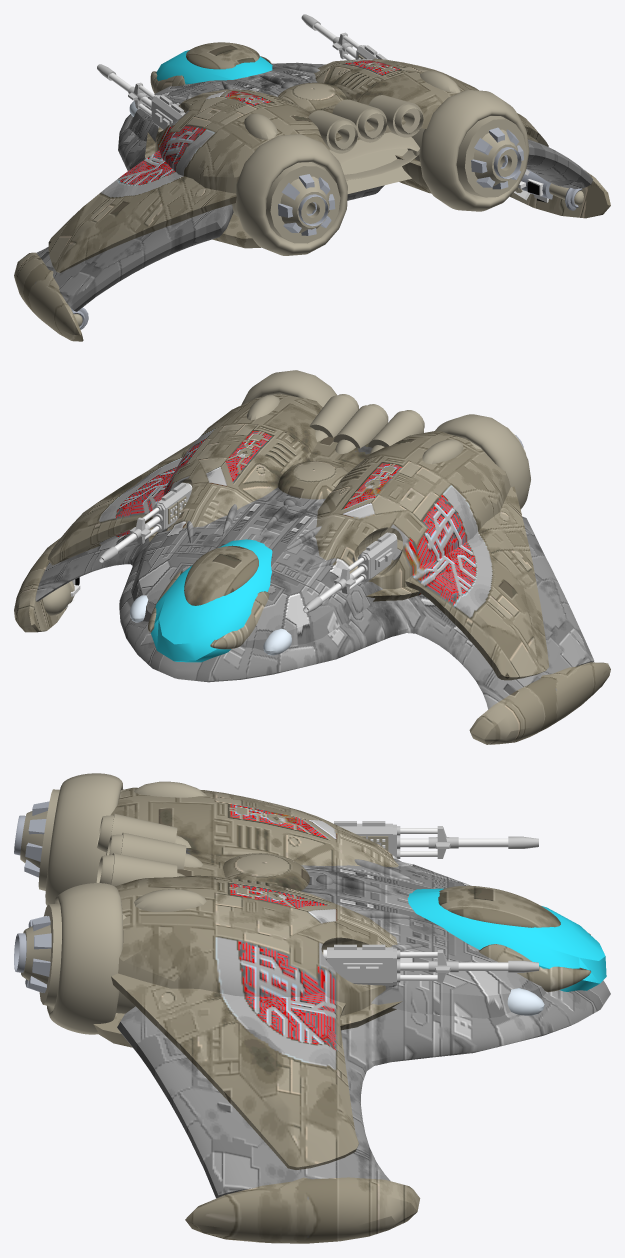
File: salthi.glb
3 renders of one model, top to bottom at view 1: azimuth 30°, elevation 25°; view 2: azimuth 150°, elevation 25°; view 3: azimuth 270°, elevation 25°, orthographic. The views are drawn at different scales.
Parts seen in each view (by area): view 1: salthi_raw; view 2: salthi_raw; view 3: salthi_raw.
Part boxes in pixels (x1=…): salthi_raw: x1=14, y1=14, x2=610, y2=341; salthi_raw: x1=14, y1=370, x2=610, y2=744; salthi_raw: x1=14, y1=773, x2=610, y2=1243.
Bounding box in the file's own units: 648 × 241 × 500.
Materials: 13 (2 with a texture image).
